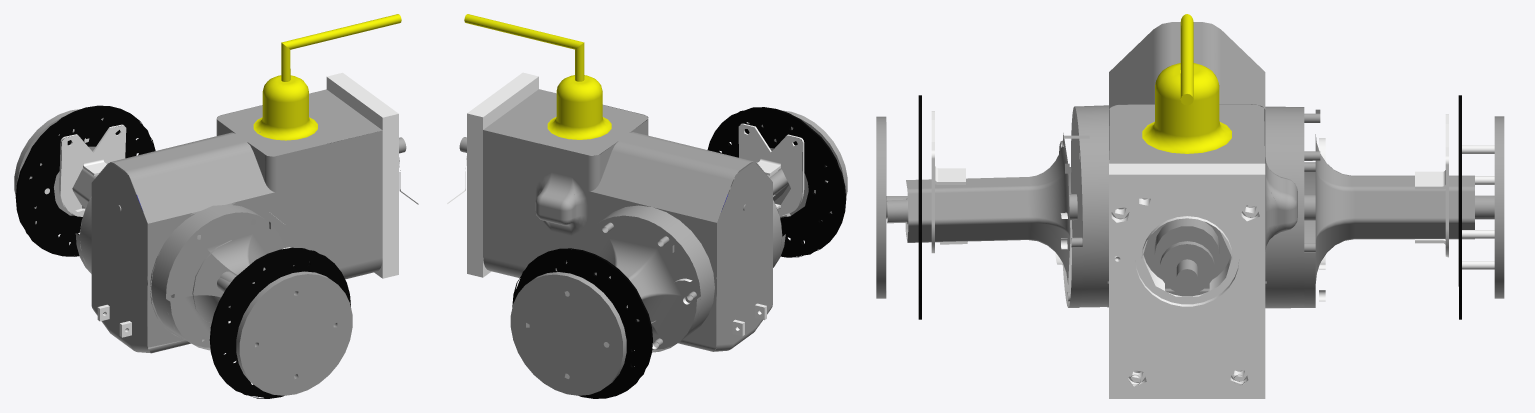
File: cub_cadet_transaxle_big.glb
3 renders of one model, left to right at view 1: azimuth 30°, elevation 25°; view 2: azimuth 150°, elevation 25°; view 3: azimuth 270°, elevation 25°, orthographic. The views are drawn at different scales.
Visible parts, largest first — view 1: Shape_IndexedFaceSet4507, Shape_IndexedFaceSet4715, Shape_IndexedFaceSet4512, Shape_IndexedFaceSet5437, Shape_IndexedFaceSet4517, Shape_IndexedFaceSet6455, Shape_IndexedFaceSet4508, Shape_IndexedFaceSet4519.001, Shape_IndexedFaceSet6508, Shape_IndexedFaceSet5523, Shape_IndexedFaceSet4649.001, Shape_IndexedFaceSet4520.001 (+19 smaller); view 2: Shape_IndexedFaceSet4509, Shape_IndexedFaceSet4700, Shape_IndexedFaceSet4512, Shape_IndexedFaceSet6454, Shape_IndexedFaceSet4513, Shape_IndexedFaceSet5438, Shape_IndexedFaceSet4508, Shape_IndexedFaceSet4519, Shape_IndexedFaceSet6510, Shape_IndexedFaceSet6449, Shape_IndexedFaceSet4520, Shape_IndexedFaceSet4533 (+18 smaller); view 3: Shape_IndexedFaceSet6507, Shape_IndexedFaceSet4508, Shape_IndexedFaceSet4520.001, Shape_IndexedFaceSet4520, Shape_IndexedFaceSet4661, Shape_IndexedFaceSet4659.001, Shape_IndexedFaceSet4517, Shape_IndexedFaceSet4513, Shape_IndexedFaceSet4521, Shape_IndexedFaceSet4703, Shape_IndexedFaceSet6511, Shape_IndexedFaceSet4664.001 (+34 smaller).
Boxes of the visible parts, x1,y1,x2,y2 form: Shape_IndexedFaceSet4507: (147,130,382,347); Shape_IndexedFaceSet4715: (239,274,352,395); Shape_IndexedFaceSet4512: (91,162,147,345); Shape_IndexedFaceSet5437: (17,107,155,256); Shape_IndexedFaceSet4517: (132,152,274,223); Shape_IndexedFaceSet6455: (212,248,349,398); Shape_IndexedFaceSet4508: (115,89,382,170); Shape_IndexedFaceSet4519.001: (166,212,284,347); Shape_IndexedFaceSet6508: (382,114,398,278); Shape_IndexedFaceSet5523: (60,125,126,216); Shape_IndexedFaceSet4649.001: (166,212,282,347); Shape_IndexedFaceSet4520.001: (151,203,263,296); Shape_IndexedFaceSet4509: (483,130,716,347); Shape_IndexedFaceSet4700: (510,274,622,395); Shape_IndexedFaceSet4512: (717,161,772,344); Shape_IndexedFaceSet6454: (708,108,844,257); Shape_IndexedFaceSet4513: (590,151,732,222); Shape_IndexedFaceSet5438: (512,249,651,398); Shape_IndexedFaceSet4508: (483,89,749,170); Shape_IndexedFaceSet4519: (579,215,700,349); Shape_IndexedFaceSet6510: (467,113,482,277); Shape_IndexedFaceSet6449: (738,124,802,216); Shape_IndexedFaceSet4520: (596,205,714,297); Shape_IndexedFaceSet4533: (612,141,739,180); Shape_IndexedFaceSet6507: (1109,174,1265,398); Shape_IndexedFaceSet4508: (1109,22,1264,163); Shape_IndexedFaceSet4520.001: (1074,105,1109,249); Shape_IndexedFaceSet4520: (1265,106,1304,250); Shape_IndexedFaceSet4661: (1354,191,1474,217); Shape_IndexedFaceSet4659.001: (907,191,1028,219); Shape_IndexedFaceSet4517: (1109,30,1153,108); Shape_IndexedFaceSet4513: (1221,30,1265,109); Shape_IndexedFaceSet4521: (1265,250,1304,308); Shape_IndexedFaceSet4703: (1494,125,1504,298); Shape_IndexedFaceSet6511: (1109,163,1265,174); Shape_IndexedFaceSet4664.001: (907,223,1028,241).
Size of the model in its own units: 3.62 by 3.11 by 4.97.
